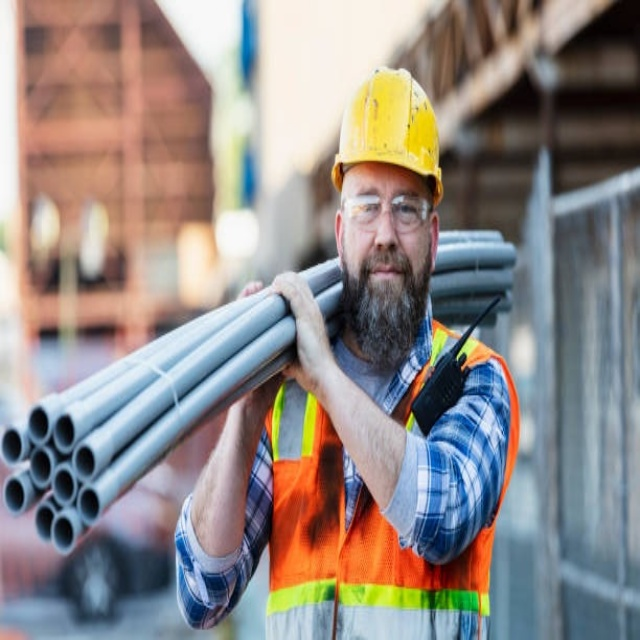Gafas: (342, 190, 434, 236)
Sin_guantes: (260, 268, 335, 394)
Sin_mascara: (358, 248, 409, 298)
